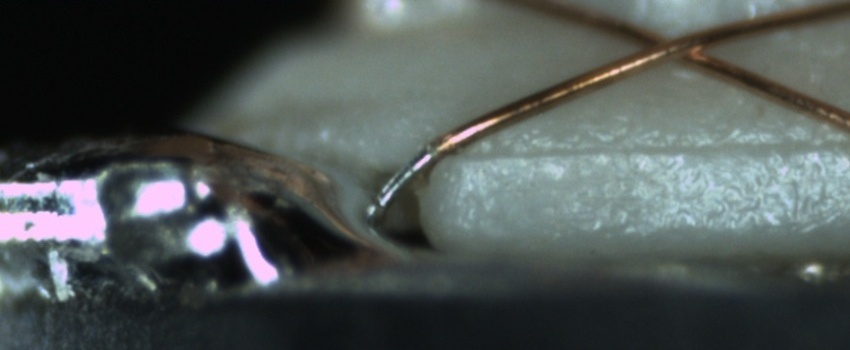CL: (622, 18, 722, 73)
DL: (467, 118, 849, 185)
TS: (375, 149, 434, 211)
TTCW: (374, 130, 446, 214)
